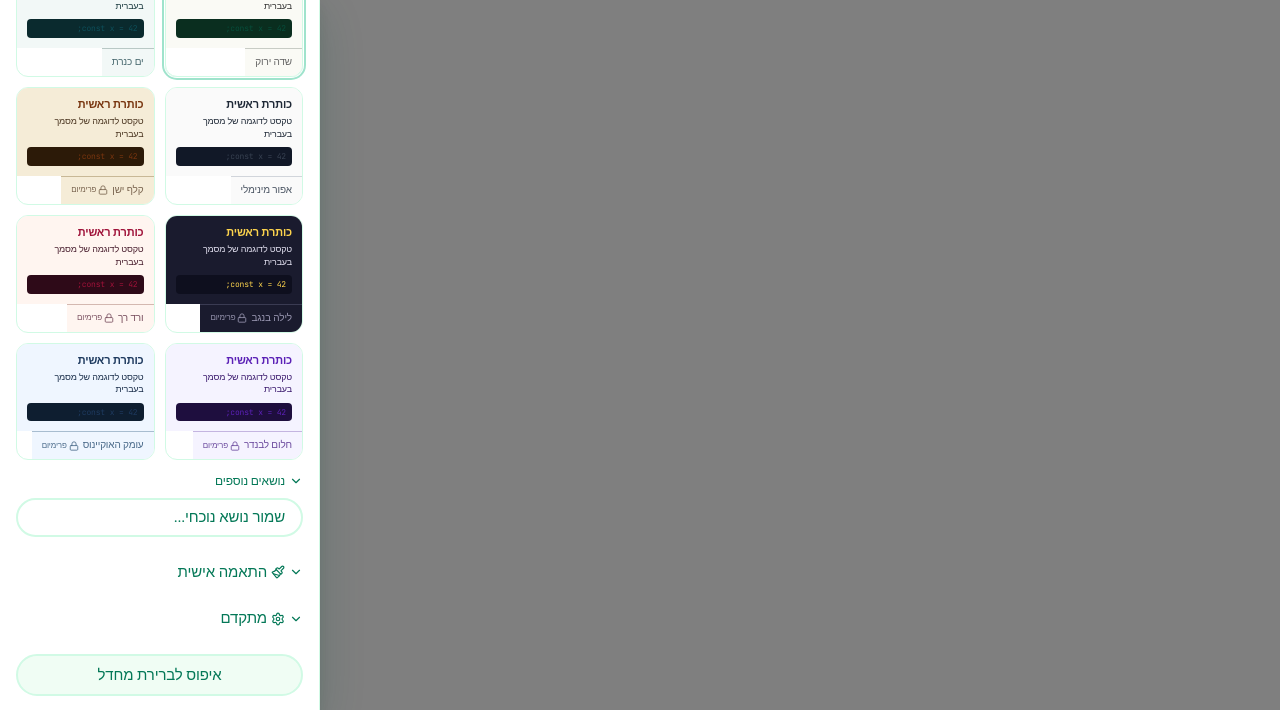
Test case: ColorPanel — custom presets › pressing Escape in name input cancels the form
The image size is (1280, 710).
(page scrolled)
Click the button "שמור נושא נוכחי..." at point(229, 517), box [16, 498, 303, 537]
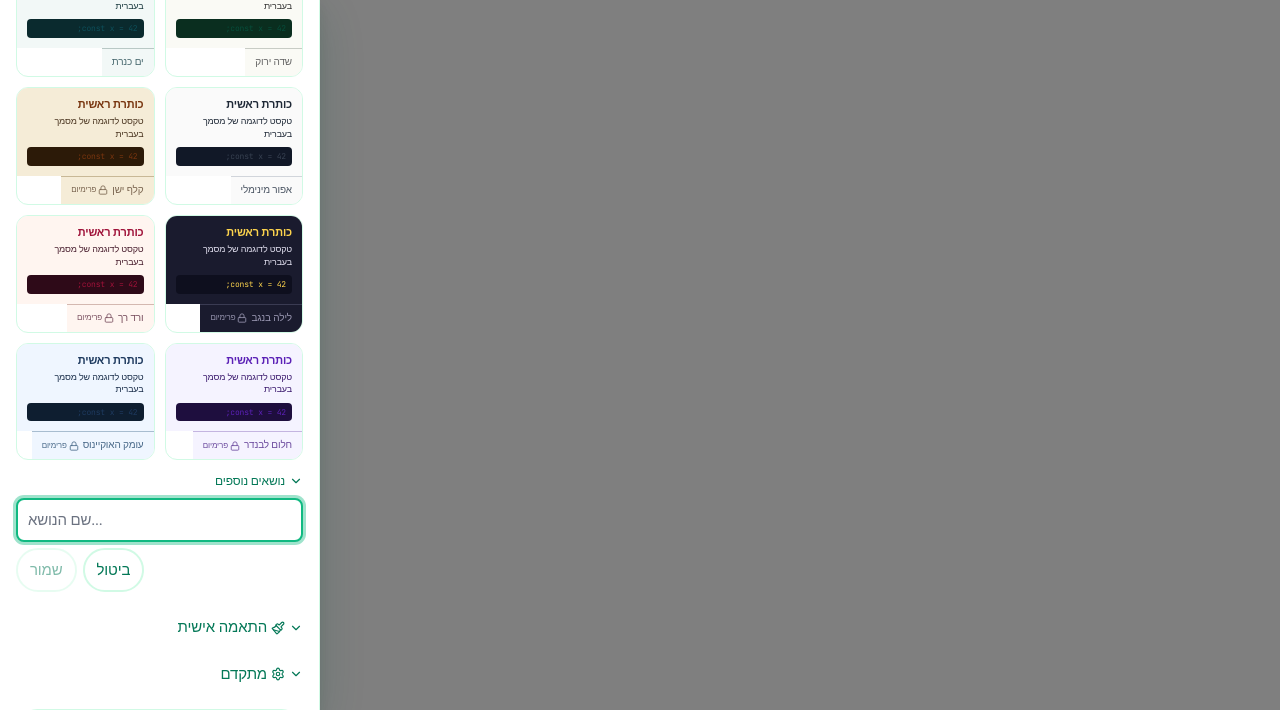
Now the field with placeholder "שם הנושא..." is shown
Press Escape in the field with placeholder "שם הנושא...", box [16, 498, 303, 542]
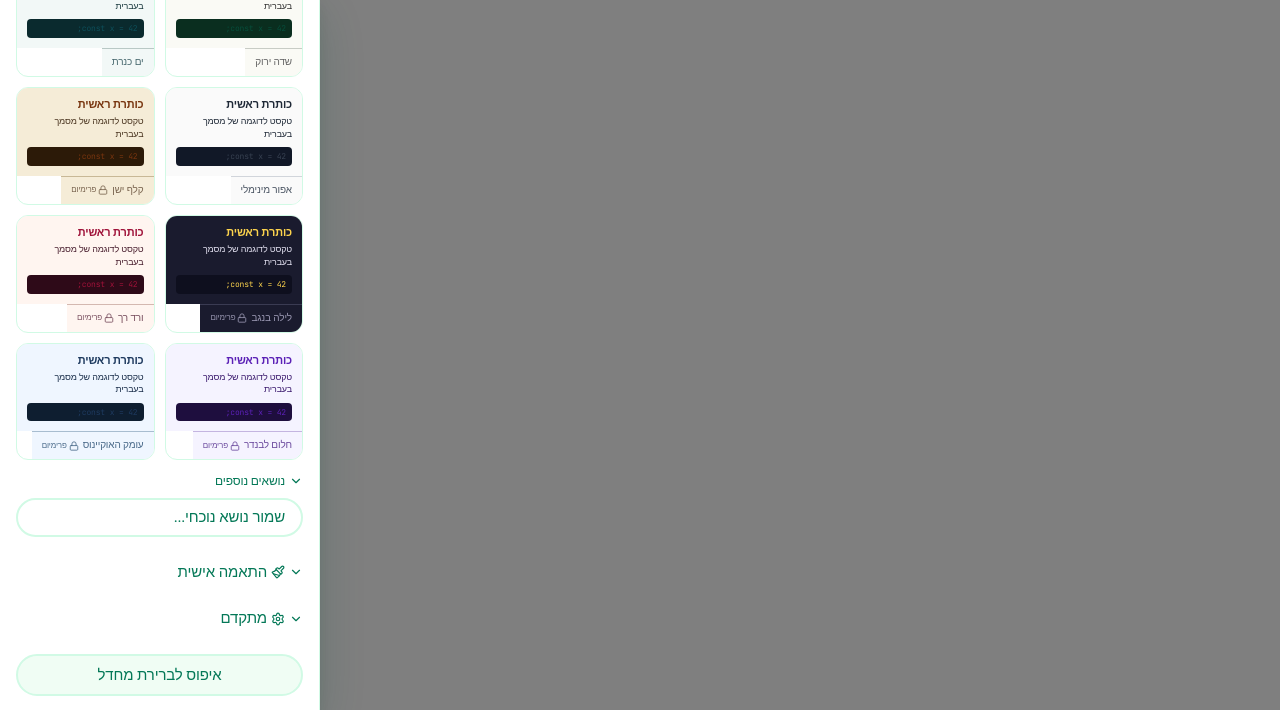
Expected: the element with placeholder "שם הנושא..." is not shown
Now the button "שמור נושא נוכחי..." is shown, box [16, 498, 303, 537]
